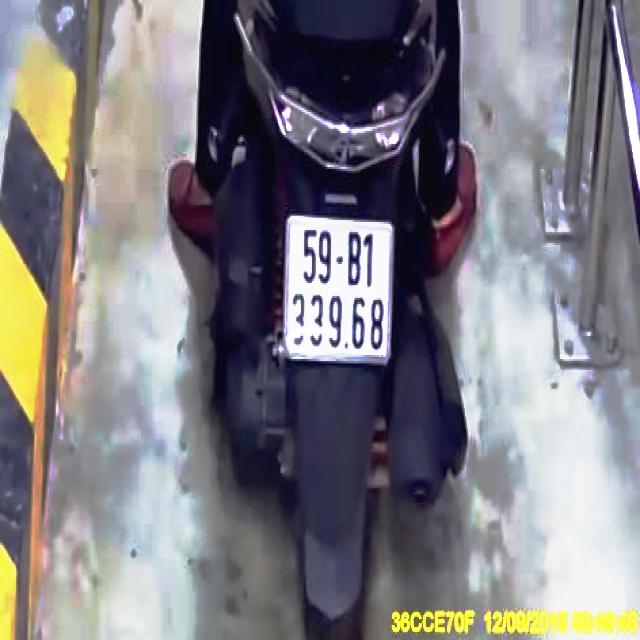license_plate: (286, 217, 398, 364)
